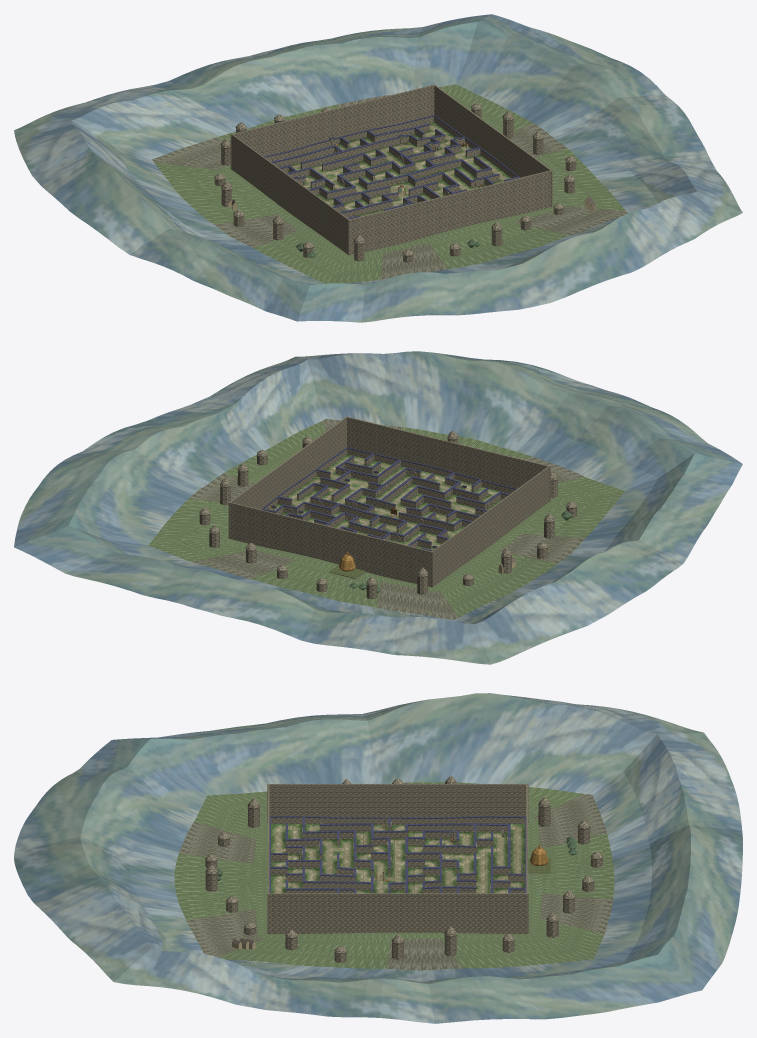
Rendered from SoundingBay.fbx.
3 renders of one model, top to bottom at view 1: azimuth 30°, elevation 25°; view 2: azimuth 150°, elevation 25°; view 3: azimuth 270°, elevation 25°, orthographic. The views are drawn at different scales.
Visible parts, largest first — view 1: Surroundings, C_Solids, Rim, Terrain, Horizon, Set; view 2: Surroundings, C_Solids, Rim, Terrain, Horizon, Set; view 3: Surroundings, C_Solids, Rim, Terrain, Horizon, Set.
Part boxes in pixels (bbox=[...]): Surroundings: bbox=[14, 14, 742, 322]; C_Solids: bbox=[230, 84, 552, 255]; Rim: bbox=[263, 115, 519, 219]; Terrain: bbox=[290, 122, 510, 216]; Horizon: bbox=[214, 97, 576, 262]; Set: bbox=[273, 131, 488, 216]; Surroundings: bbox=[14, 351, 742, 664]; C_Solids: bbox=[228, 416, 550, 587]; Rim: bbox=[261, 447, 516, 551]; Terrain: bbox=[271, 454, 503, 549]; Horizon: bbox=[199, 430, 576, 599]; Set: bbox=[269, 457, 492, 571]; Surroundings: bbox=[14, 693, 742, 1023]; C_Solids: bbox=[267, 784, 528, 933]; Rim: bbox=[269, 816, 526, 893]; Terrain: bbox=[271, 824, 525, 893]; Horizon: bbox=[205, 776, 602, 962]; Set: bbox=[286, 814, 548, 893].
Bounding box in the file's own units: 34621 × 3624 × 34056.
